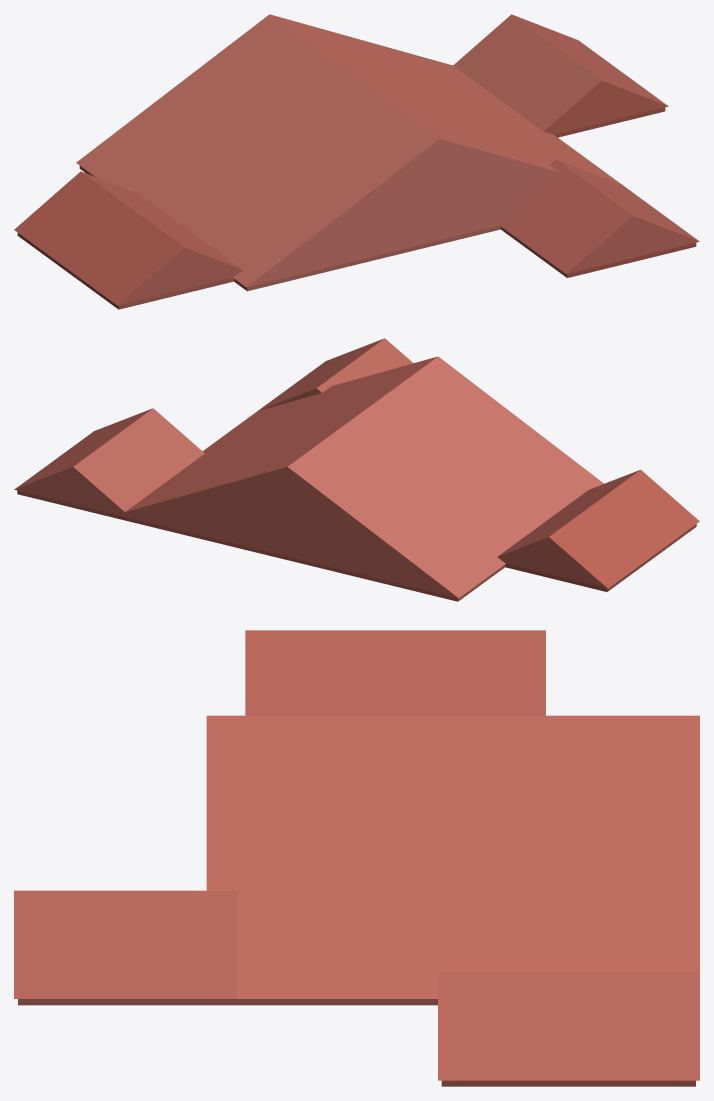
The model's file is roof.glb.
3 renders of one model, top to bottom at view 1: azimuth 30°, elevation 25°; view 2: azimuth 150°, elevation 25°; view 3: azimuth 270°, elevation 25°, orthographic. The views are drawn at different scales.
Visible parts, largest first — view 1: roof2; view 2: roof2; view 3: roof2.
Boxes of the visible parts, x1,y1,x2,y2 form: roof2: [14, 14, 699, 309]; roof2: [14, 338, 699, 601]; roof2: [14, 630, 699, 1086].
Size of the model in its own units: 26.8 by 4.43 by 17.8.
